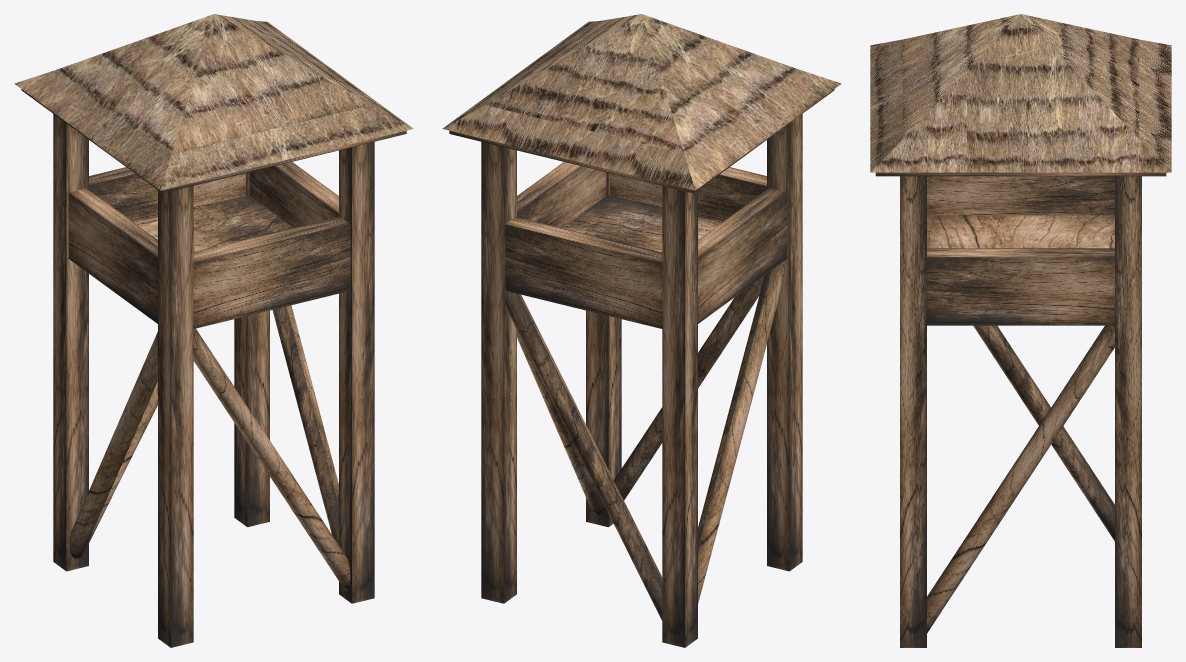
The model's file is Tower.FBX.
The picture shows the model from 3 angles, left to right: view 1: azimuth 30°, elevation 25°; view 2: azimuth 150°, elevation 25°; view 3: azimuth 270°, elevation 25°; orthographic projection. The views are drawn at different scales.
Visible parts, largest first — view 1: Tower; view 2: Tower; view 3: Tower.
Boxes of the visible parts, x1,y1,x2,y2 form: Tower: (14, 14, 413, 647); Tower: (442, 14, 841, 647); Tower: (870, 14, 1171, 647).
Size of the model in its own units: 71.12 by 71.12 by 152.
Materials: 2 (2 with a texture image).
